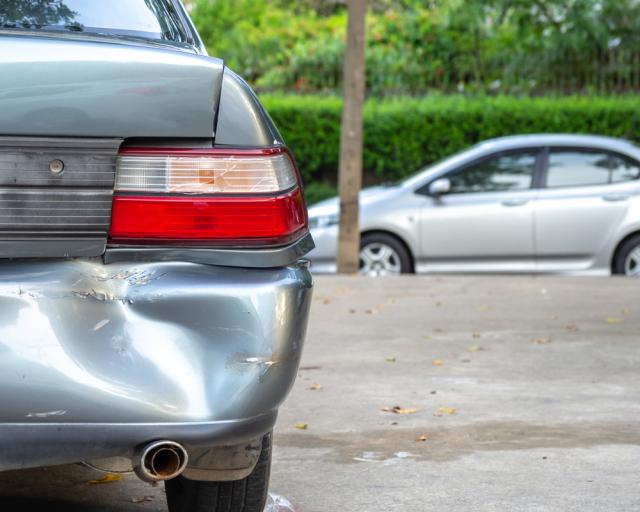dent: (0, 261, 264, 419)
lamp broken: (108, 146, 310, 251)
